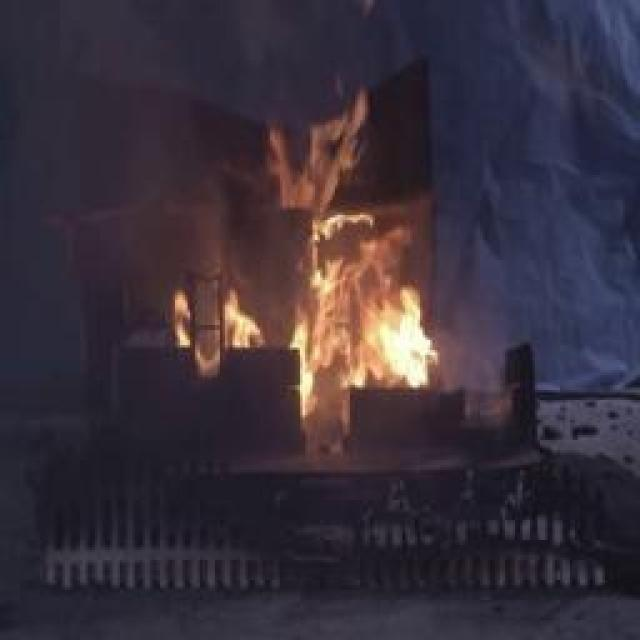fire: (212, 91, 450, 419)
